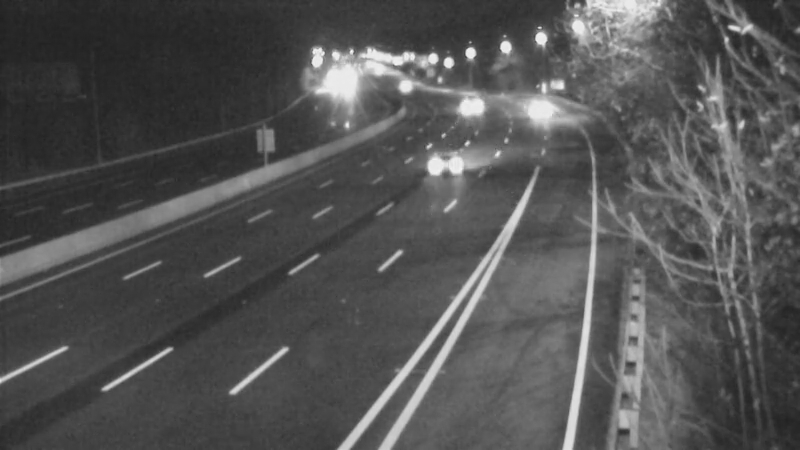vehicle: (409, 122, 489, 202), (375, 59, 425, 109), (510, 85, 560, 135), (440, 79, 490, 129)
